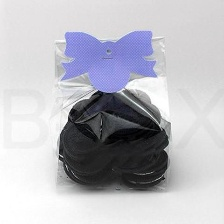snack: (42, 23, 180, 200)
